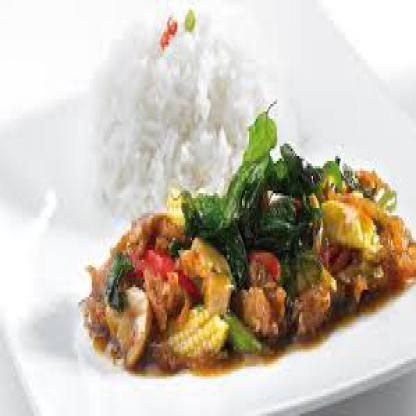Basil Rice: (39, 5, 408, 394)
